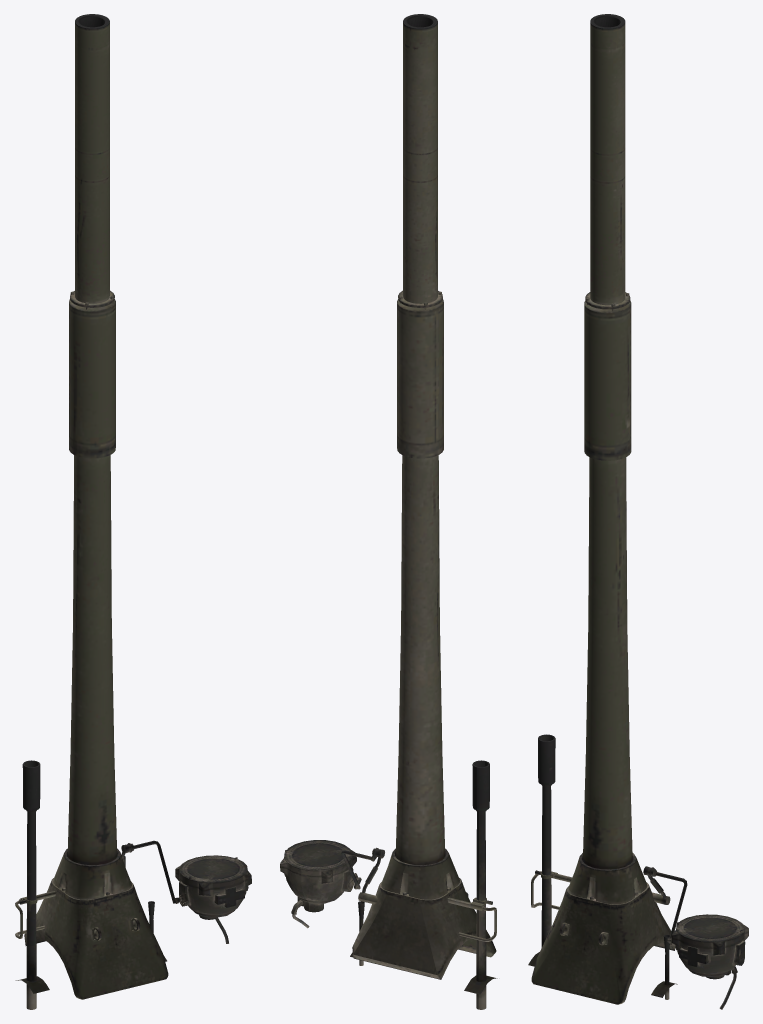
Rendered from Gun_02.glb.
The picture shows the model from 3 angles, left to right: view 1: azimuth 30°, elevation 25°; view 2: azimuth 150°, elevation 25°; view 3: azimuth 330°, elevation 25°; orthographic projection.
Parts seen in each view (by area): view 1: set_0_group_0; view 2: set_0_group_0; view 3: set_0_group_0.
Part boxes in pixels (x1,y1,x2,y2): set_0_group_0: (15,14,251,1009); set_0_group_0: (280,14,497,1009); set_0_group_0: (528,14,748,1009).
Bounding box in the file's own units: 1.25 × 5.34 × 0.5706.
Materials: 1 (1 with a texture image).
